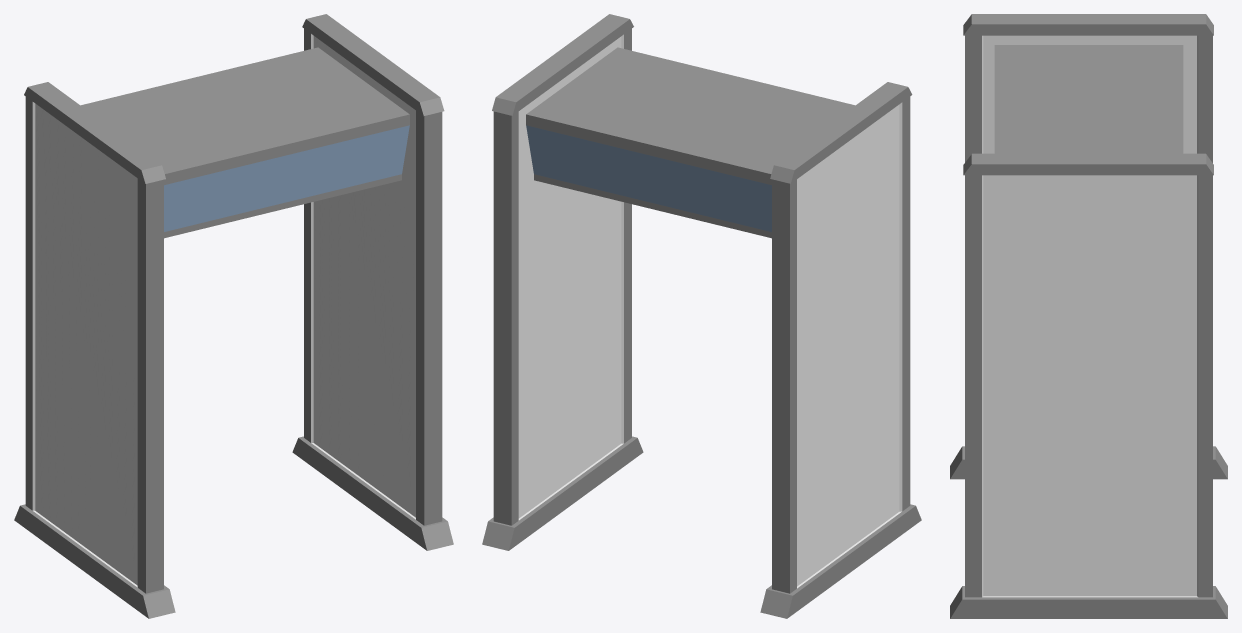
The model's file is PH_Scanner.fbx.
3 views of the same model, side by side, from view 1: azimuth 30°, elevation 25°; view 2: azimuth 150°, elevation 25°; view 3: azimuth 270°, elevation 25° (orthographic). The views are drawn at different scales.
Visible parts, largest first — view 1: PH_Scanner; view 2: PH_Scanner; view 3: PH_Scanner.
Part boxes in pixels (x1=…): PH_Scanner: x1=14, y1=14, x2=453, y2=618; PH_Scanner: x1=482, y1=14, x2=921, y2=618; PH_Scanner: x1=950, y1=14, x2=1227, y2=618.
Size of the model in its own units: 12.89 by 17.79 by 9.88.
